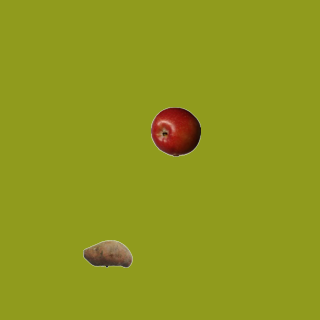Apple Braeburn: (150, 106, 200, 156)
Potato Sweet: (82, 228, 132, 278)
